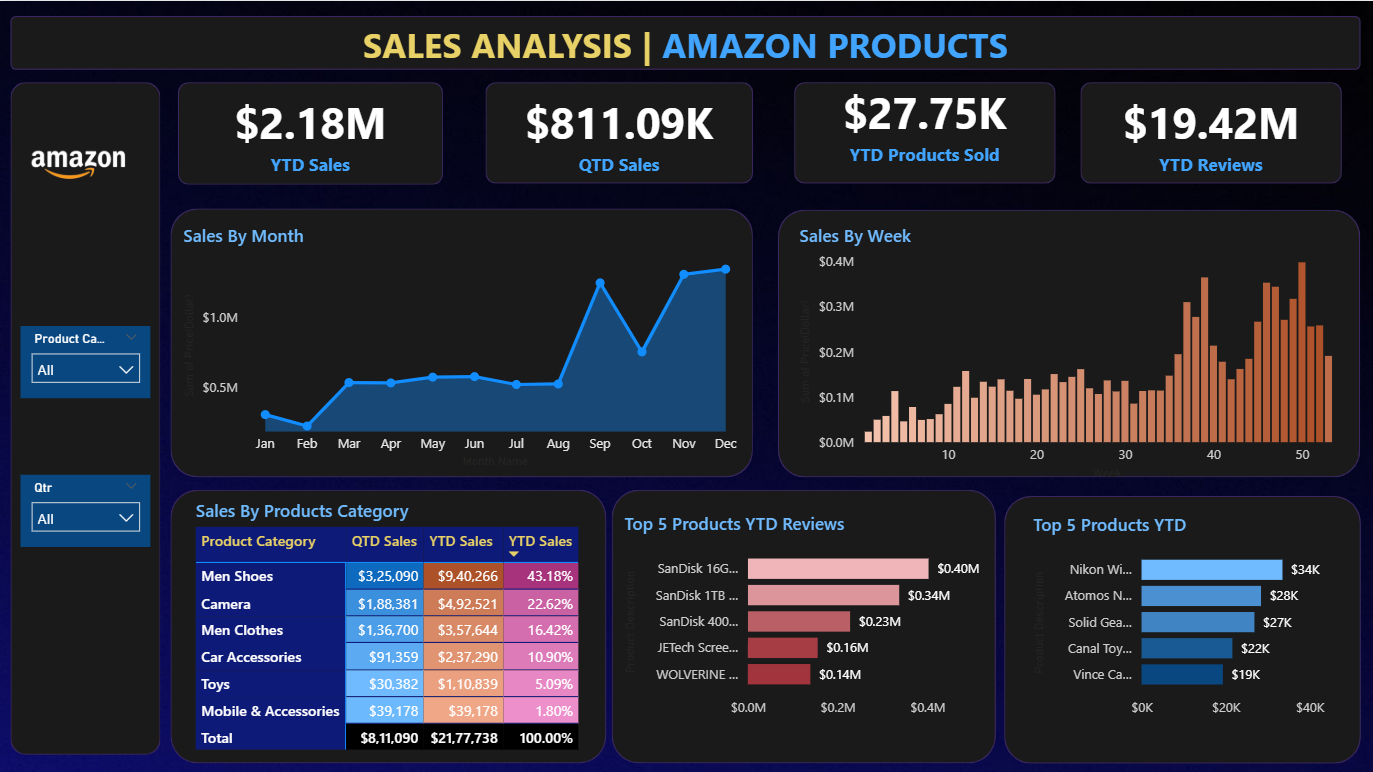

What the dashboard file says about the page in this screenshot:
{"tool":"powerbi","page":{"name":"Page 1","canvas":[1280,720],"ordinal":0},"visuals":[{"type":"shape","box":[11.6,14,1255.8,50],"z":0},{"type":"shape","box":[11.6,75.6,139.5,625.6],"z":500},{"type":"textbox","box":[325.6,14,627.9,52.3],"z":1000},{"type":"shape","box":[167.4,75.6,246.5,95.3],"z":1500},{"type":"card","fields":{"Values":["Amazon_Data.YTD Sales"]},"box":[174.4,75.6,232.6,95.3],"z":2000},{"type":"shape","box":[453.5,75.6,248.8,94.2],"z":3500},{"type":"card","fields":{"Values":["Amazon_Data.QTD Sales"]},"box":[453.5,75.6,248.8,95.3],"z":4000},{"type":"shape","box":[740.7,75.6,243,94.2],"z":7000},{"type":"shape","box":[1007,75.6,243,94.2],"z":8000},{"type":"card","fields":{"Values":["Amazon_Data.YTD Products Sold"]},"box":[740.7,66.3,243,95.3],"z":9000},{"type":"card","fields":{"Values":["Amazon_Data.YTD Reviews"]},"box":[1007,75.6,243,95.3],"z":10000},{"type":"shape","box":[160.5,193,541.9,250],"z":11000},{"type":"areaChart","title":"Sales By Month","fields":{"Category":["Date Table.Month Name"],"Y":["Sum(Amazon_Data.Price(Dollar))"]},"box":[167.4,207,530.2,232.6],"z":12000},{"type":"shape","box":[725.8,194.3,541.6,249],"z":13000},{"type":"columnChart","title":"Sales By Week","fields":{"Category":["Date Table.Week"],"Y":["Sum(Amazon_Data.Price(Dollar))"]},"box":[740.3,206.6,525.9,243.4],"z":14000},{"type":"shape","box":[160.8,454.5,405.3,254.6],"z":15000},{"type":"pivotTable","title":"Sales By Products Category","fields":{"Rows":["Amazon_Data.Product Category"],"Values":["Amazon_Data.QTD Sales","Amazon_Data.YTD Sales1","Amazon_Data.YTD Sales"]},"box":[178.7,462.3,399.8,246.8],"z":16000},{"type":"shape","box":[935.7,460.1,331.6,249],"z":17000},{"type":"shape","box":[570.6,454.5,357.3,254.6],"z":18000},{"type":"clusteredBarChart","title":"Top 5 Products YTD ","fields":{"Category":["Amazon_Data.Product Description"],"Y":["Amazon_Data.YTD Sales"]},"box":[958.1,475.7,300.4,199.9],"z":19000},{"type":"clusteredBarChart","title":"Top 5 Products YTD  Reviews","fields":{"Category":["Amazon_Data.Product Description"],"Y":["Amazon_Data.YTD Reviews"]},"box":[578.4,474.6,357.3,201],"z":20000},{"type":"slicer","fields":{"Values":["Amazon_Data.Product Category"]},"box":[20.9,302.3,120.9,67.4],"z":21000},{"type":"slicer","fields":{"Values":["Date Table.Qtr"]},"box":[20.9,440.7,120.9,67.4],"z":22000},{"type":"image","box":[0,93.8,150.7,112.8],"z":23000}]}

Visuals, with their boxes in screenshot pixels (x1, y1, x2, y2), scaled from the page's 1280x720 canvas onto the 1373x772 screenshot:
shape: [12, 15, 1359, 69]
shape: [12, 81, 162, 752]
textbox: [349, 15, 1023, 71]
shape: [180, 81, 444, 183]
card - Amazon_Data.YTD Sales: [187, 81, 437, 183]
shape: [486, 81, 753, 182]
card - Amazon_Data.QTD Sales: [486, 81, 753, 183]
shape: [795, 81, 1055, 182]
shape: [1080, 81, 1341, 182]
card - Amazon_Data.YTD Products Sold: [795, 71, 1055, 173]
card - Amazon_Data.YTD Reviews: [1080, 81, 1341, 183]
shape: [172, 207, 753, 475]
"Sales By Month" areaChart: [180, 222, 748, 471]
shape: [779, 208, 1359, 475]
"Sales By Week" columnChart: [794, 222, 1358, 482]
shape: [172, 487, 607, 760]
"Sales By Products Category" pivotTable: [192, 496, 621, 760]
shape: [1004, 493, 1359, 760]
shape: [612, 487, 995, 760]
"Top 5 Products YTD " clusteredBarChart: [1028, 510, 1350, 724]
"Top 5 Products YTD  Reviews" clusteredBarChart: [620, 509, 1004, 724]
slicer - Amazon_Data.Product Category: [22, 324, 152, 396]
slicer - Date Table.Qtr: [22, 473, 152, 545]
image: [0, 101, 162, 222]
